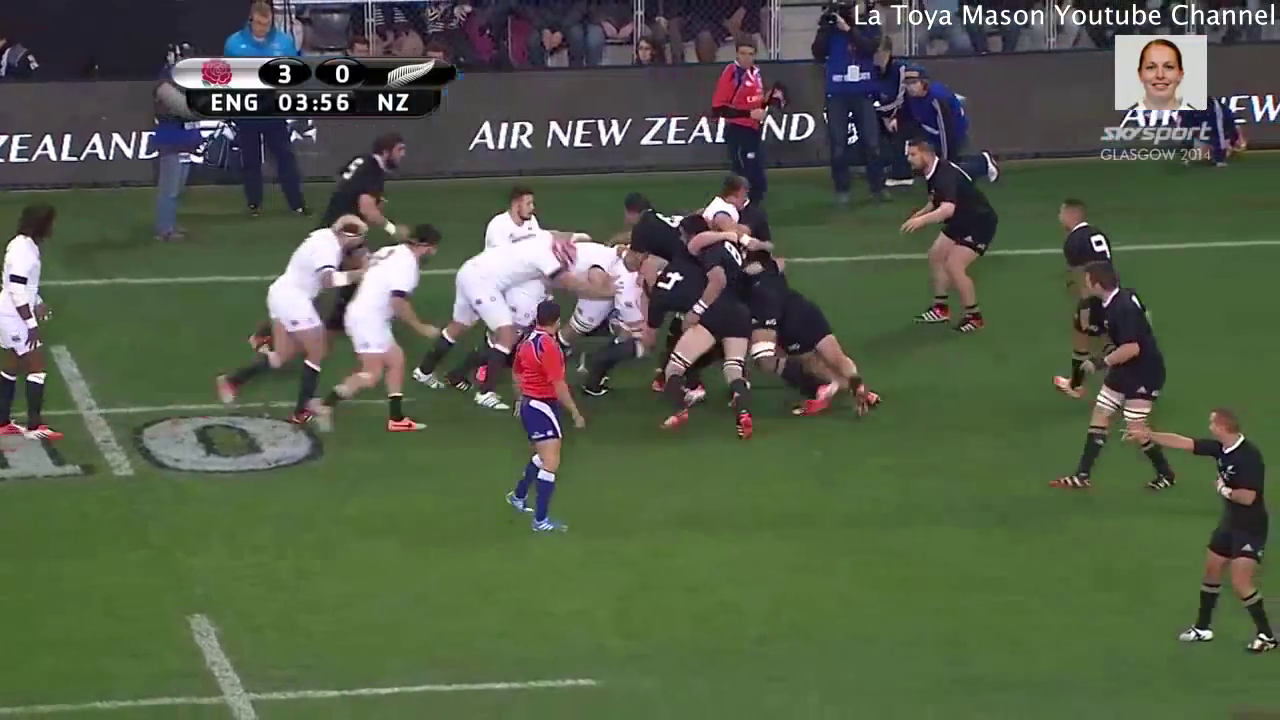maul: (436, 188, 872, 434)
player: (1117, 403, 1280, 658), (203, 212, 376, 431), (1040, 258, 1188, 504), (292, 216, 453, 440), (411, 238, 580, 412), (631, 250, 757, 445), (895, 139, 1008, 342), (497, 293, 583, 544), (751, 274, 889, 424), (1, 199, 64, 449), (1049, 192, 1121, 404), (321, 129, 422, 254), (484, 189, 545, 242)
